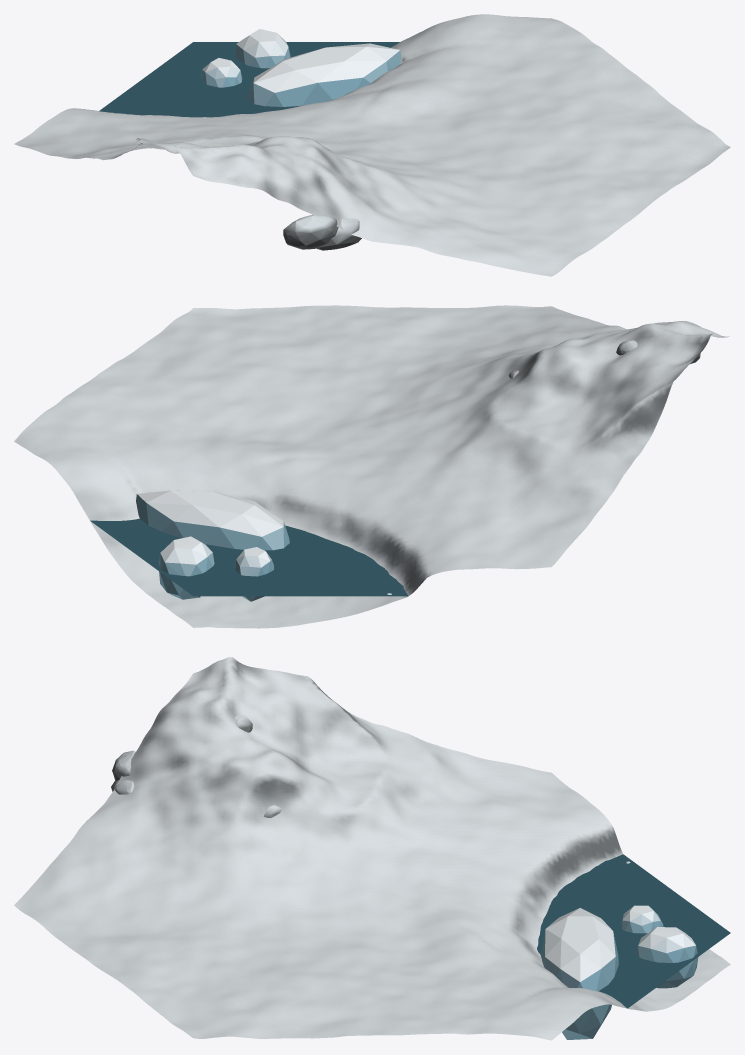
3 views of the same model, one above another, from view 1: azimuth 30°, elevation 25°; view 2: azimuth 150°, elevation 25°; view 3: azimuth 270°, elevation 25° (orthographic).
Visible parts, largest first — view 1: terrain_v10, sea_level_0, WG_12_berg_00, supported_bedrock, WG_12_berg_02, WG_12_berg_01; view 2: terrain_v10, sea_level_0, WG_12_berg_00, WG_12_berg_02, WG_12_berg_01; view 3: terrain_v10, sea_level_0, WG_12_berg_00, WG_12_berg_02, supported_bedrock, WG_12_berg_01.
Boxes of the visible parts, box(x1,y1,x2,y2) form: terrain_v10: box(14, 14, 730, 276); sea_level_0: box(99, 42, 399, 117); WG_12_berg_00: box(246, 43, 401, 106); supported_bedrock: box(283, 214, 361, 250); WG_12_berg_02: box(235, 29, 290, 68); WG_12_berg_01: box(201, 58, 242, 87); terrain_v10: box(14, 305, 729, 628); sea_level_0: box(90, 518, 408, 596); WG_12_berg_00: box(136, 490, 289, 550); WG_12_berg_02: box(159, 536, 214, 599); WG_12_berg_01: box(234, 547, 274, 601); terrain_v10: box(14, 657, 730, 1040); sea_level_0: box(537, 854, 730, 1008); WG_12_berg_00: box(540, 908, 618, 1039); WG_12_berg_02: box(635, 927, 698, 988); supported_bedrock: box(111, 715, 282, 817); WG_12_berg_01: box(620, 905, 663, 933).
Size of the model in its own units: 4330 by 1653 by 5000.
7 materials, 2 textured.
